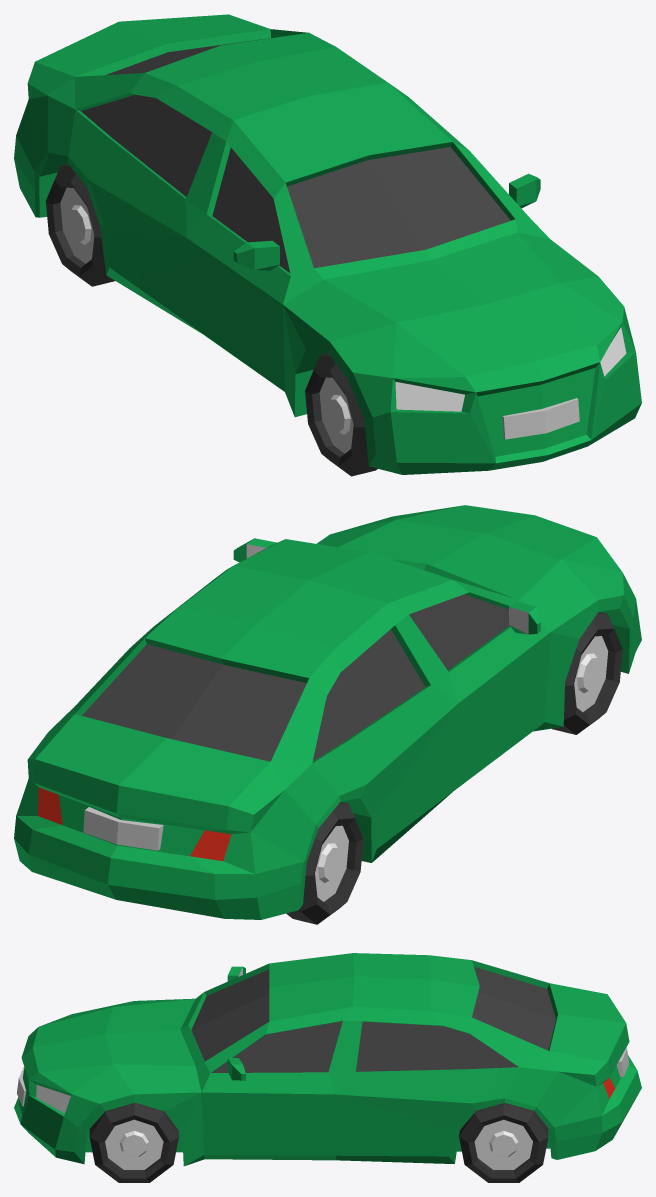
Rendered from Car.fbx.
The picture shows the model from 3 angles, top to bottom: view 1: azimuth 30°, elevation 25°; view 2: azimuth 150°, elevation 25°; view 3: azimuth 270°, elevation 25°; orthographic projection. The views are drawn at different scales.
Parts seen in each view (by area): view 1: Car_Chassis, Car_Wheel_FrontLeft, Car_Wheel_RearLeft; view 2: Car_Chassis, Car_Wheel_RearLeft, Car_Wheel_FrontLeft; view 3: Car_Chassis, Car_Wheel_RearRight, Car_Wheel_FrontRight.
Boxes of the visible parts, box(x1,y1,x2,y2) form: Car_Chassis: box(14, 14, 641, 474); Car_Wheel_FrontLeft: box(305, 353, 377, 476); Car_Wheel_RearLeft: box(46, 164, 114, 286); Car_Chassis: box(14, 505, 641, 919); Car_Wheel_RearLeft: box(286, 802, 363, 924); Car_Wheel_FrontLeft: box(552, 612, 622, 734); Car_Chassis: box(14, 953, 641, 1166); Car_Wheel_RearRight: box(459, 1103, 548, 1182); Car_Wheel_FrontRight: box(89, 1102, 178, 1182).
Size of the model in its own units: 2.09 by 1.51 by 5.27.
